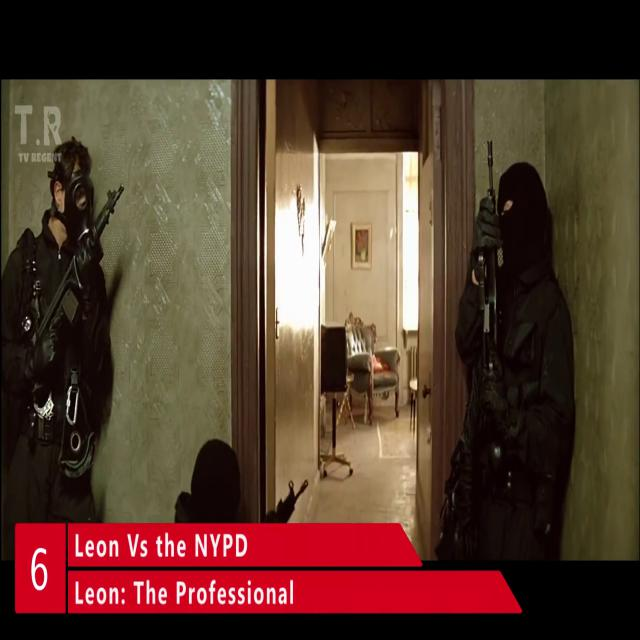long weapon: (0, 164, 142, 405), (458, 129, 508, 470)
